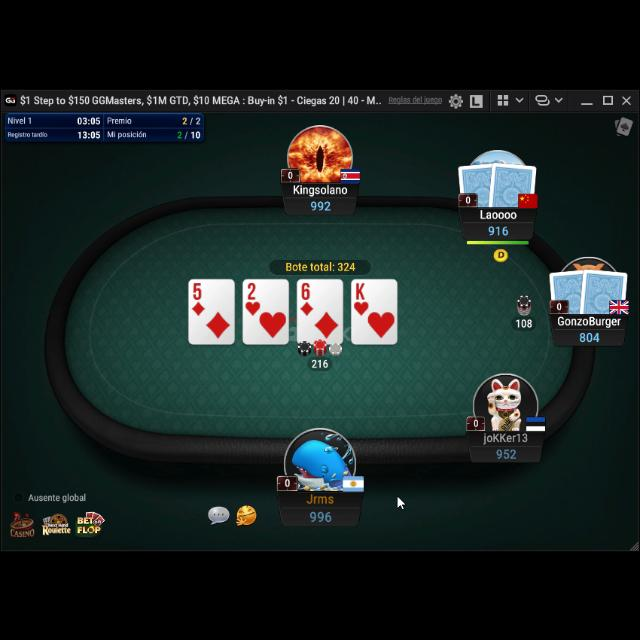2h: (244, 279, 262, 315)
5d: (190, 280, 206, 316)
6d: (298, 280, 314, 316)
Kh: (353, 280, 369, 314)
bet_text: (514, 314, 534, 326), (310, 355, 330, 367)
card_back: (579, 263, 629, 313), (489, 155, 538, 205), (456, 156, 499, 204), (548, 264, 590, 312)
dealer: (492, 242, 510, 260), (492, 244, 510, 260)
pot_text: (285, 260, 359, 270)
stack_text: (307, 506, 333, 520), (486, 220, 509, 234), (578, 326, 600, 340), (310, 195, 332, 209), (495, 444, 517, 456)
